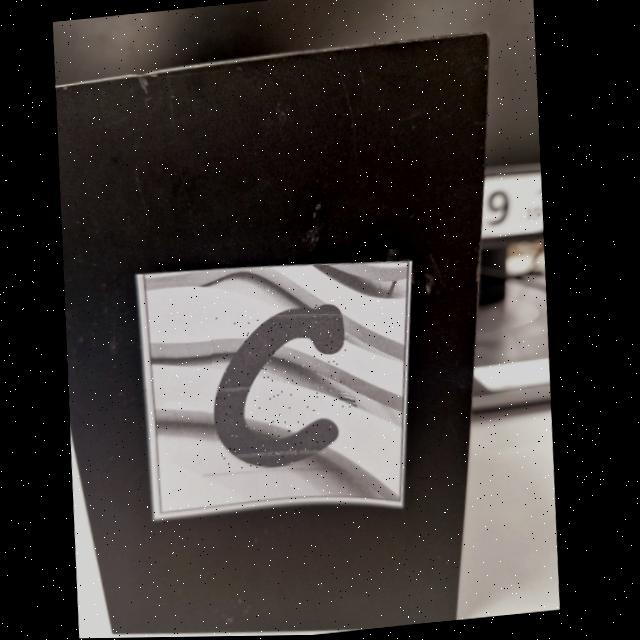C: (219, 302, 351, 467)
